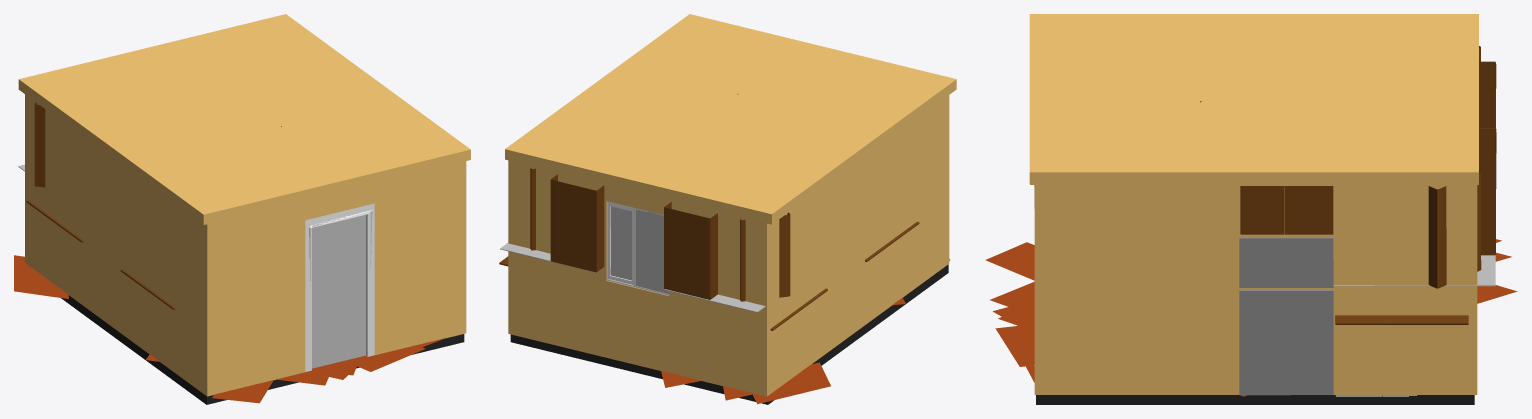
File: FloorPlan19_physics.fbx
The picture shows the model from 3 angles, left to right: view 1: azimuth 30°, elevation 25°; view 2: azimuth 150°, elevation 25°; view 3: azimuth 270°, elevation 25°; orthographic projection. The views are drawn at different scales.
Parts seen in each view (by area): view 1: Room.036, Ceiling, Door, DoorFrame, Floor1, Decals.022, Decals.023, Decals.021, Cube.409, Cube.432; view 2: Room.036, Ceiling, Cube.409, Cube.421, WindowPane, Floor1, Decals.021, WindowFrame, Cube.432; view 3: Ceiling, Room.036, Cube.429, Cube.421, Floor1, Decals.022, Decals.023, Cube.432, Cube.409, Decals.021.
Part boxes in pixels (x1=…): Room.036: x1=25, y1=94, x2=466, y2=396; Ceiling: x1=18, y1=14, x2=470, y2=224; Door: x1=312, y1=214, x2=365, y2=368; DoorFrame: x1=305, y1=203, x2=374, y2=371; Floor1: x1=61, y1=295, x2=464, y2=404; Decals.022: x1=307, y1=338, x2=445, y2=379; Decals.023: x1=146, y1=354, x2=355, y2=403; Decals.021: x1=14, y1=255, x2=68, y2=298; Cube.409: x1=18, y1=102, x2=45, y2=187; Cube.432: x1=26, y1=200, x2=175, y2=309; Room.036: x1=508, y1=95, x2=949, y2=396; Ceiling: x1=505, y1=14, x2=956, y2=224; Cube.409: x1=663, y1=202, x2=790, y2=312; Cube.421: x1=500, y1=167, x2=604, y2=272; WindowPane: x1=610, y1=206, x2=668, y2=293; Floor1: x1=510, y1=264, x2=948, y2=404; Decals.021: x1=661, y1=362, x2=830, y2=404; WindowFrame: x1=606, y1=201, x2=669, y2=295; Cube.432: x1=499, y1=221, x2=919, y2=330; Ceiling: x1=1029, y1=14, x2=1478, y2=184; Room.036: x1=1034, y1=185, x2=1477, y2=394; Cube.429: x1=1239, y1=238, x2=1333, y2=395; Cube.421: x1=1240, y1=128, x2=1496, y2=288; Floor1: x1=1036, y1=395, x2=1474, y2=404; Decals.022: x1=993, y1=300, x2=1247, y2=396; Decals.023: x1=985, y1=242, x2=1034, y2=324; Cube.432: x1=1335, y1=315, x2=1468, y2=324; Cube.409: x1=1479, y1=46, x2=1496, y2=188; Decals.021: x1=1477, y1=239, x2=1517, y2=303.
Size of the model in its own units: 446 by 267 by 548.
